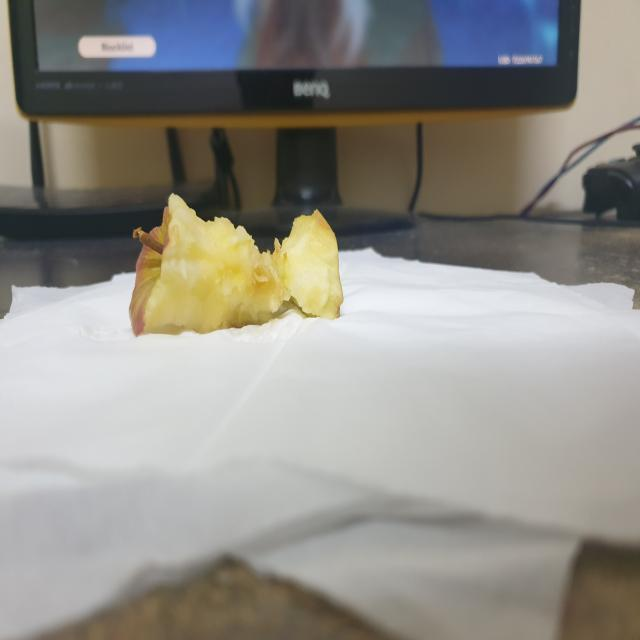apple: (123, 188, 346, 340)
